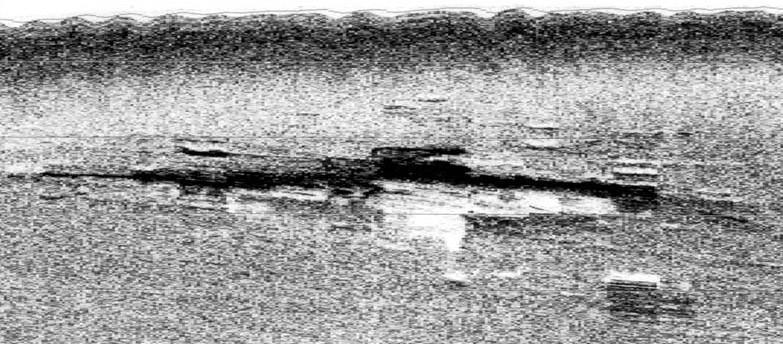ship: (145, 176, 658, 248)
